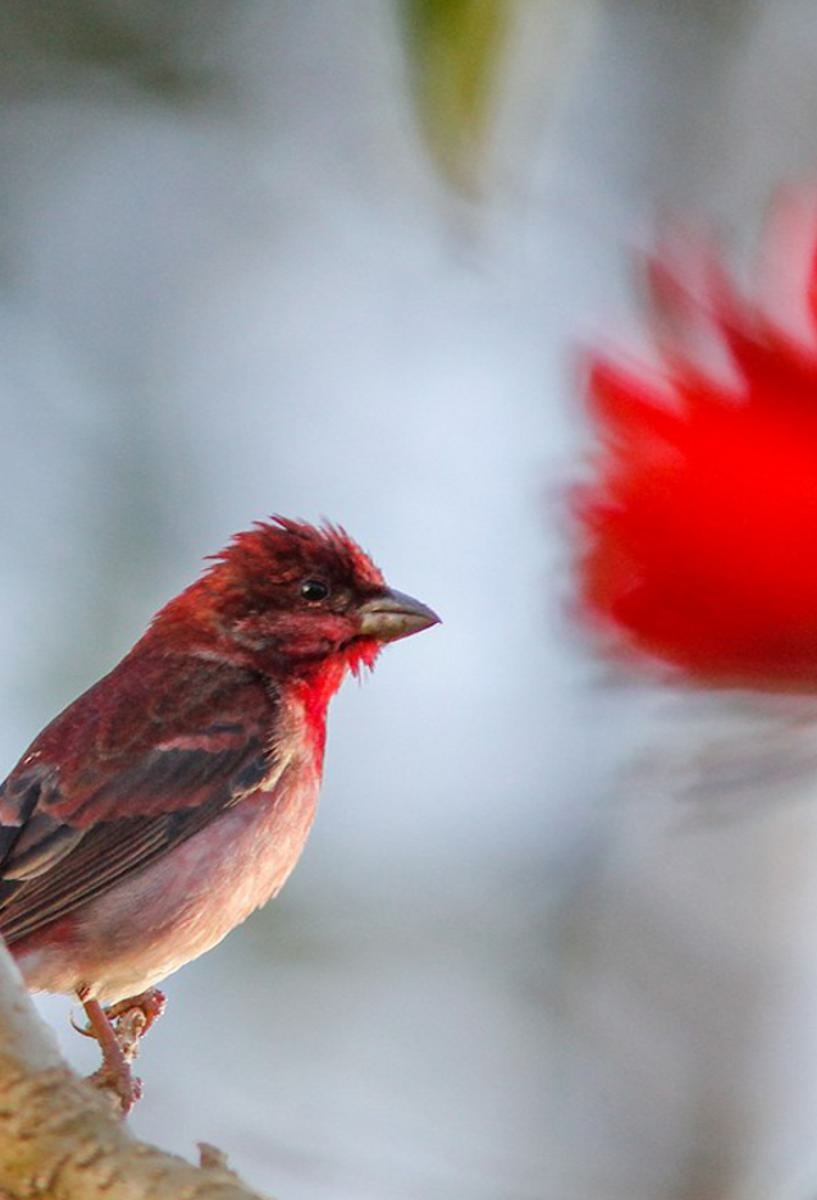rosefinch: (1, 482, 479, 1051)
